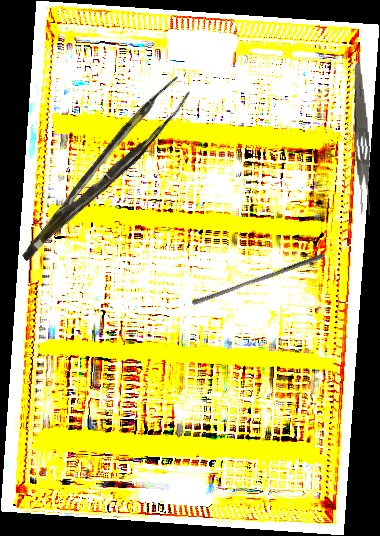Dressing Forceps: (347, 62, 375, 216)
Pusher: (191, 247, 326, 311)
Tissue Forceps: (1, 75, 202, 262)
